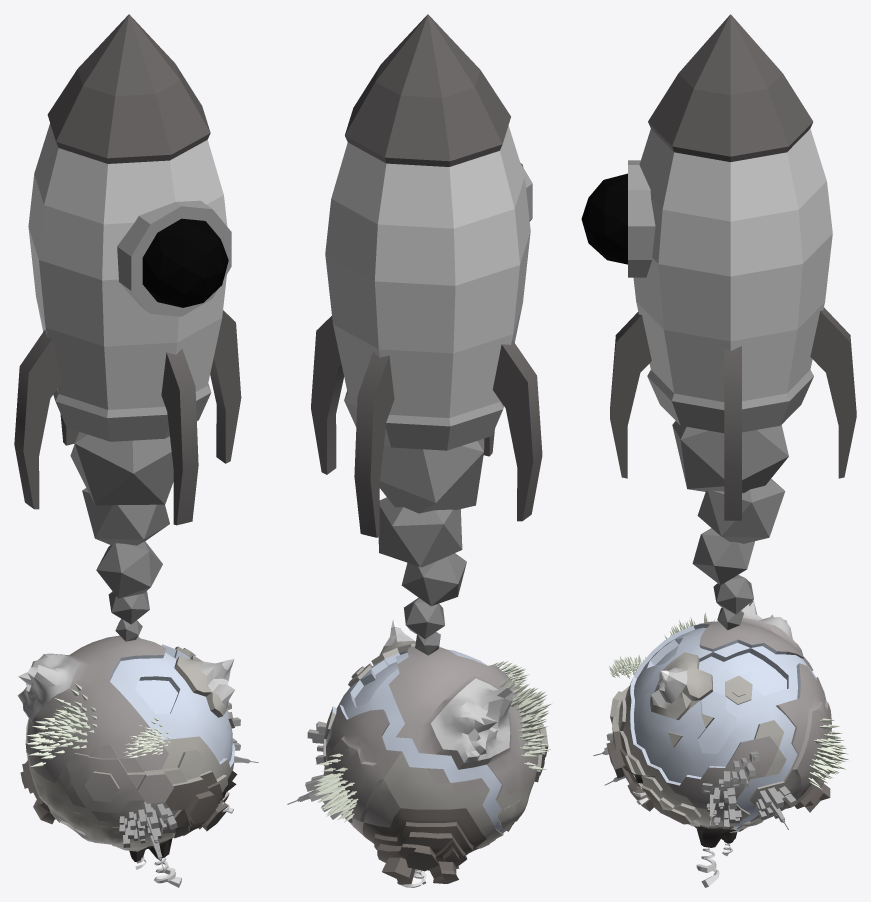
Rendered from rocket11.glb.
The picture shows the model from 3 angles, left to right: view 1: azimuth 30°, elevation 25°; view 2: azimuth 150°, elevation 25°; view 3: azimuth 270°, elevation 25°; orthographic projection. The views are drawn at different scales.
Parts seen in each view (by area): view 1: Rocket_Ship_01_Material_#27_0, Rocket_Ship_01_Material_#28_0, Grass_Grass_0, Rocket_Ship_01_Material_#42_0, Rocket_Ship_01_Material_#29_0, Ground_Sand_0, Water_Water_0, Rocket_Ship_01_Material_#30_0, Rocky_Mountains_Rocks_0, Mountains_Rock_0, Forest_Trees_0_1, City_Metal_0 (+2 smaller); view 2: Rocket_Ship_01_Material_#27_0, Rocket_Ship_01_Material_#28_0, Grass_Grass_0, Rocket_Ship_01_Material_#42_0, Rocky_Mountains_Rocks_0, Ground_Sand_0, Water_Water_0, Mountains_Rock_0, Rocket_Ship_01_Material_#29_0, Forest_Trees_0_1, City_Metal_0; view 3: Rocket_Ship_01_Material_#27_0, Rocket_Ship_01_Material_#28_0, Water_Water_0, Rocket_Ship_01_Material_#42_0, Grass_Grass_0, Ground_Sand_0, Rocket_Ship_01_Material_#29_0, Rocket_Ship_01_Material_#30_0, City_Metal_0, Rocky_Mountains_Rocks_0, Forest_Trees_0_1, Mountains_Rock_0 (+1 smaller).
Boxes of the visible parts, x1,y1,x2,y2 form: Rocket_Ship_01_Material_#27_0: [28, 123, 227, 409]; Rocket_Ship_01_Material_#28_0: [14, 14, 241, 525]; Grass_Grass_0: [24, 635, 178, 842]; Rocket_Ship_01_Material_#42_0: [70, 431, 173, 641]; Rocket_Ship_01_Material_#29_0: [53, 200, 231, 441]; Ground_Sand_0: [25, 646, 234, 851]; Water_Water_0: [62, 644, 235, 821]; Rocket_Ship_01_Material_#30_0: [142, 218, 228, 307]; Rocky_Mountains_Rocks_0: [20, 760, 229, 838]; Mountains_Rock_0: [17, 653, 234, 719]; Forest_Trees_0_1: [25, 683, 96, 766]; City_Metal_0: [119, 702, 258, 869]; Rocket_Ship_01_Material_#27_0: [325, 125, 530, 417]; Rocket_Ship_01_Material_#28_0: [311, 14, 542, 537]; Grass_Grass_0: [323, 646, 541, 840]; Rocket_Ship_01_Material_#42_0: [378, 439, 484, 655]; Rocky_Mountains_Rocks_0: [362, 808, 486, 884]; Ground_Sand_0: [323, 641, 548, 848]; Water_Water_0: [326, 649, 506, 833]; Mountains_Rock_0: [384, 627, 512, 762]; Rocket_Ship_01_Material_#29_0: [344, 163, 532, 450]; Forest_Trees_0_1: [314, 677, 551, 822]; City_Metal_0: [287, 721, 340, 819]; Rocket_Ship_01_Material_#27_0: [633, 128, 832, 401]; Rocket_Ship_01_Material_#28_0: [610, 14, 856, 520]; Water_Water_0: [630, 624, 816, 831]; Rocket_Ship_01_Material_#42_0: [672, 421, 788, 630]; Grass_Grass_0: [667, 618, 831, 820]; Ground_Sand_0: [610, 652, 799, 832]; Rocket_Ship_01_Material_#29_0: [628, 160, 813, 433]; Rocket_Ship_01_Material_#30_0: [581, 173, 627, 264]; City_Metal_0: [593, 733, 796, 829]; Rocky_Mountains_Rocks_0: [606, 727, 833, 824]; Forest_Trees_0_1: [664, 612, 849, 789]; Mountains_Rock_0: [651, 600, 793, 706].
Bounding box in the file's own units: 0.7239 × 2.65 × 0.7715.
